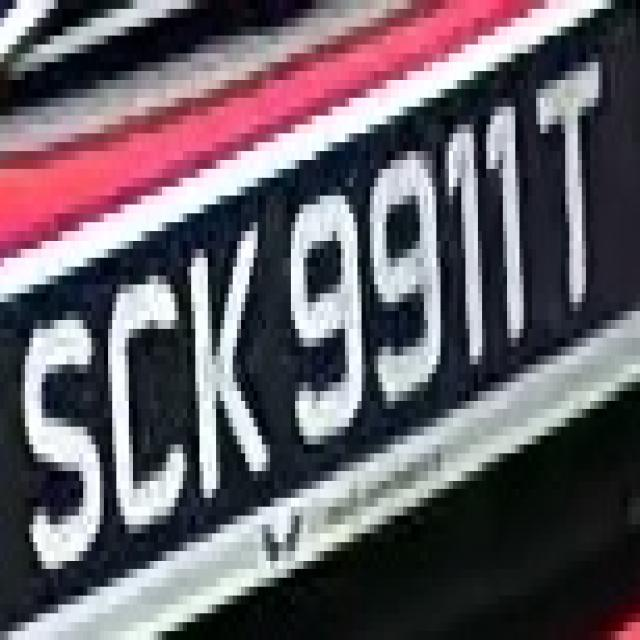1: (482, 89, 544, 373), (436, 115, 486, 409)
9: (366, 169, 461, 418), (282, 205, 366, 462)
C: (112, 267, 187, 551)
K: (187, 222, 278, 524)
S: (4, 293, 108, 578)
T: (540, 36, 611, 364)
